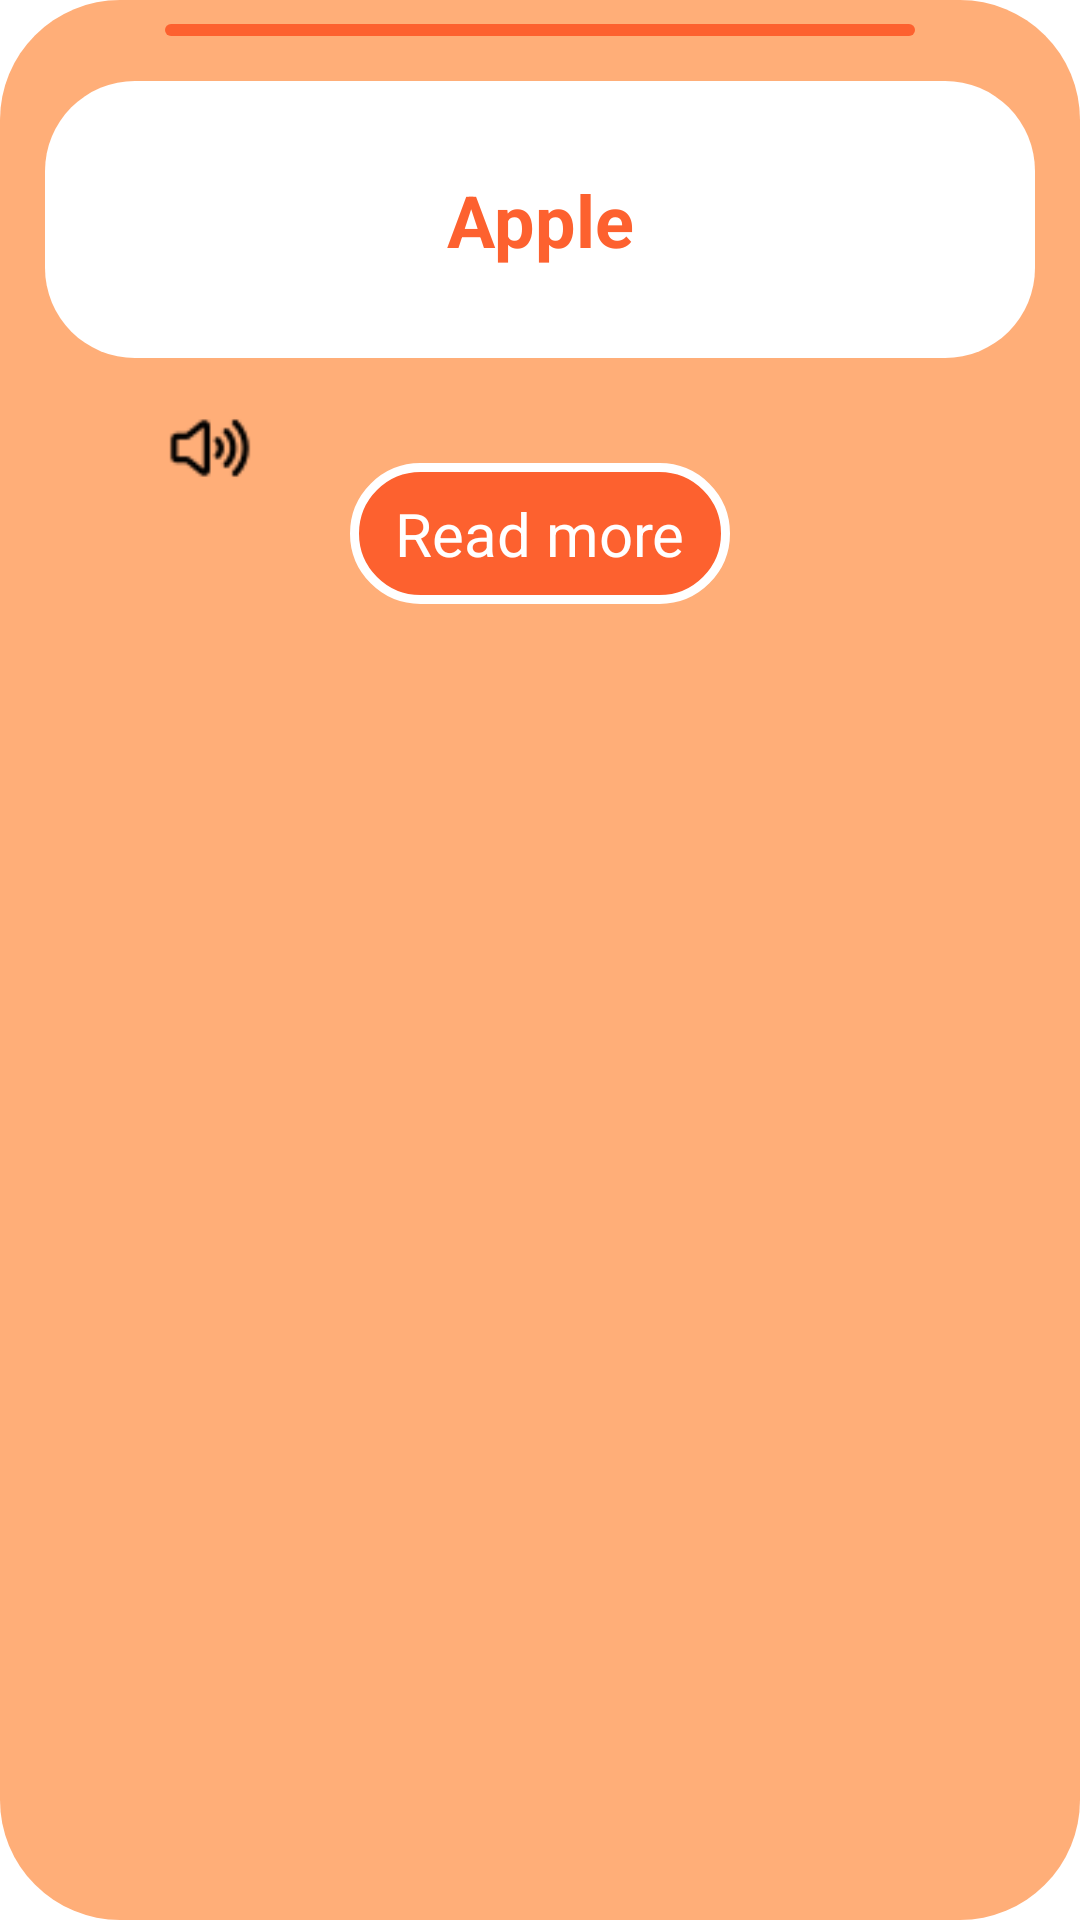

Icon bounding boxes for this 1080 x 1920 phone screenshot, format (x1, y1, x2, y2):
speaker: (170, 419, 250, 477)
